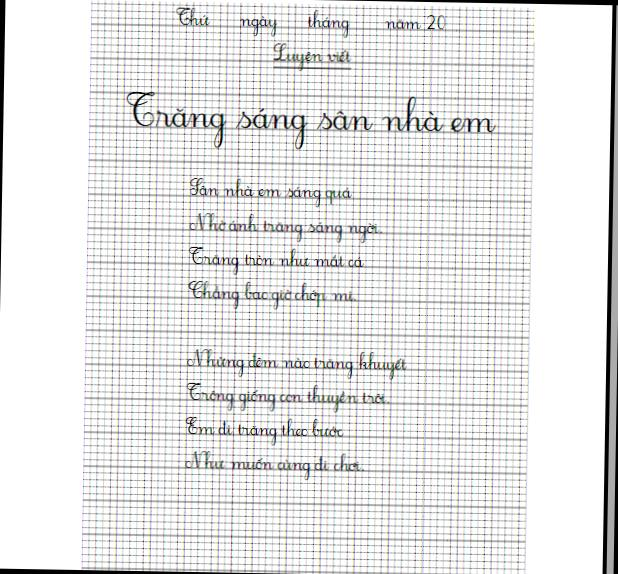text: (124, 88, 500, 156), (184, 346, 410, 381), (184, 380, 393, 414), (186, 210, 385, 245), (186, 277, 357, 314), (186, 245, 366, 279), (183, 449, 366, 482), (186, 176, 354, 211), (183, 416, 346, 449), (269, 41, 354, 72), (303, 7, 351, 38), (382, 13, 448, 33), (238, 12, 280, 38), (171, 6, 212, 27)
